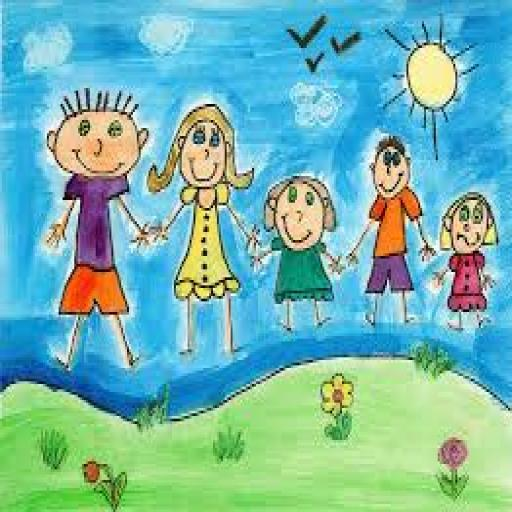person: (41, 83, 152, 374), (146, 99, 261, 359), (348, 132, 434, 330), (250, 164, 345, 336), (434, 190, 501, 334)
